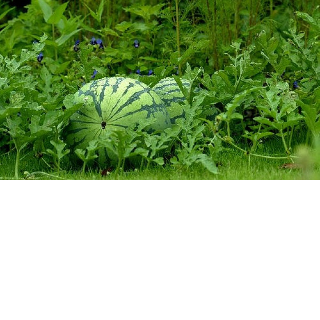dua_hau: (63, 74, 173, 169)
